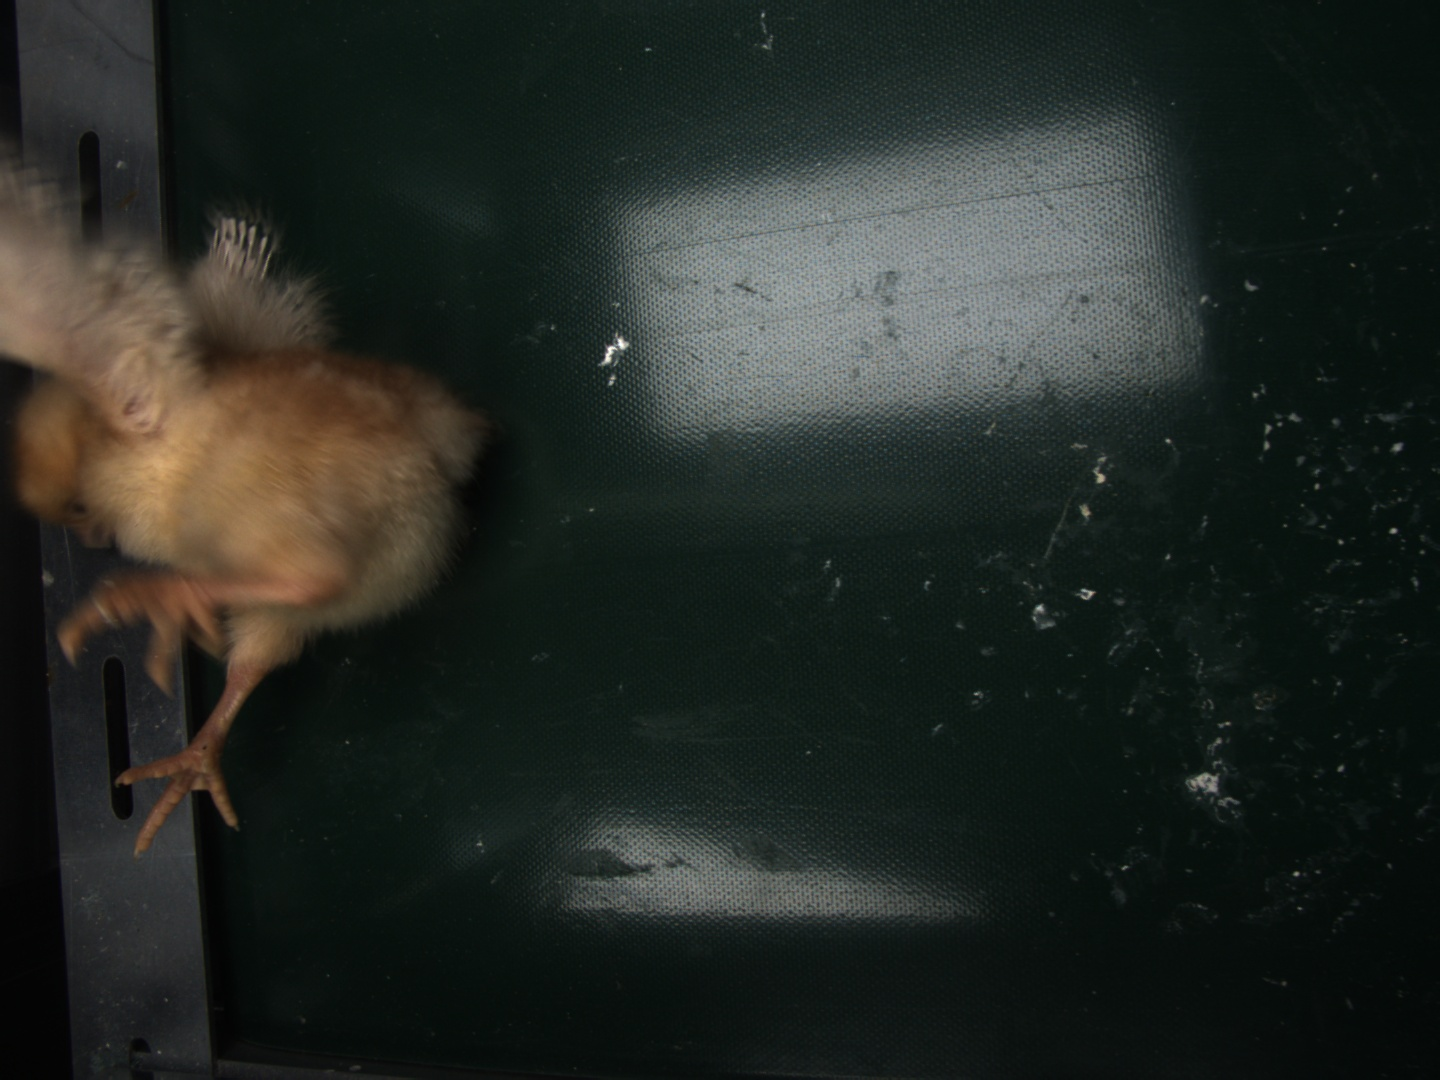female: (205, 217, 274, 290)
